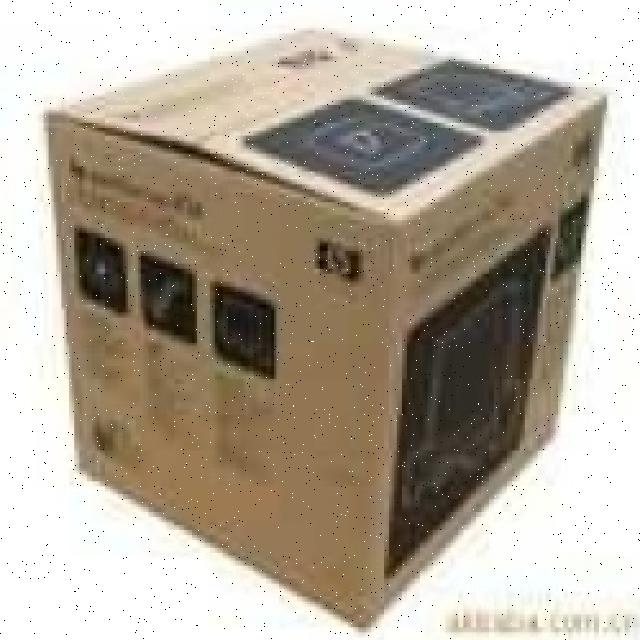box: (17, 12, 630, 638)
